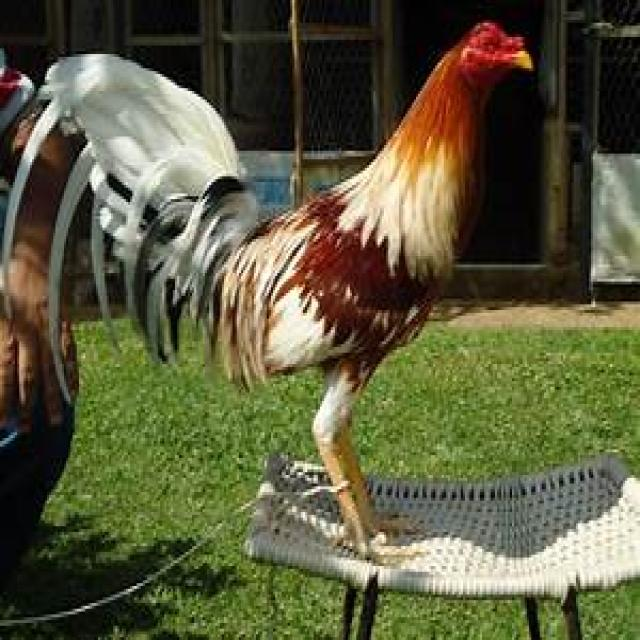hen: (41, 23, 535, 549)
